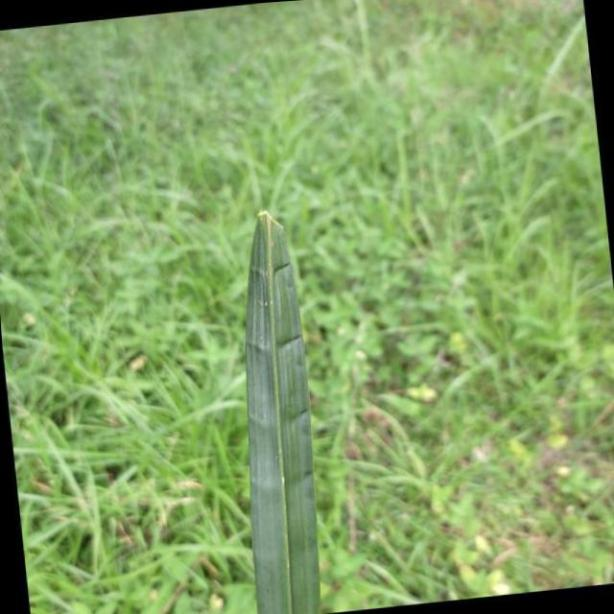Boron: (240, 204, 318, 614)
